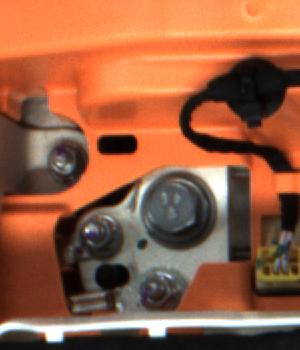nut_b: (133, 168, 217, 250)
